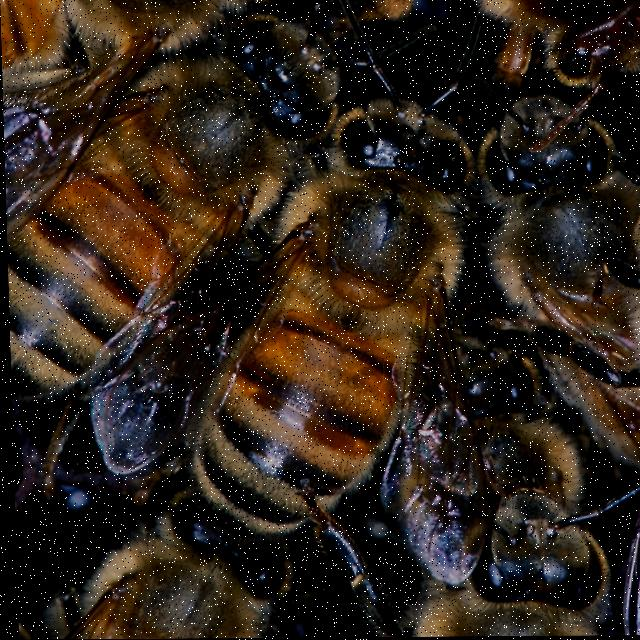Apis-mellifera-scutellata: (3, 0, 373, 430), (175, 90, 499, 541), (459, 63, 640, 497), (42, 451, 344, 640), (1, 0, 255, 101)
